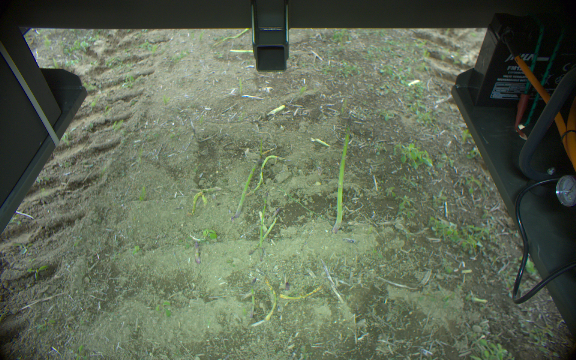aspa: (329, 124, 355, 234), (232, 152, 263, 220), (254, 204, 290, 248), (252, 154, 278, 193), (242, 276, 260, 319), (189, 237, 203, 264)
